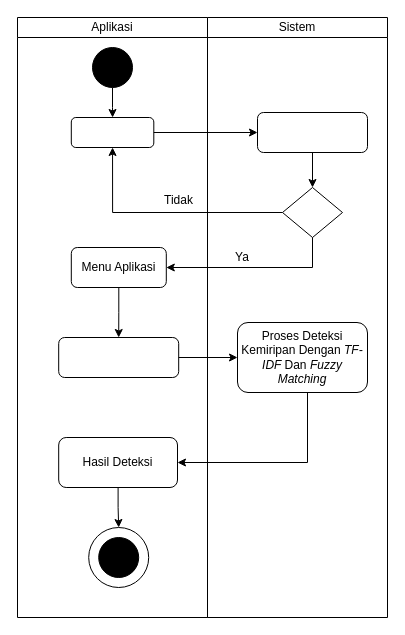
Image size: 405x635. Some labels were removed from this diagram. Here are the shapes that lost their labels. From the top down, the box of each, then its label:
(70, 116, 154, 148): login
(256, 112, 368, 152): Validasi Login
(58, 336, 179, 378): Input Judul Skripsi
